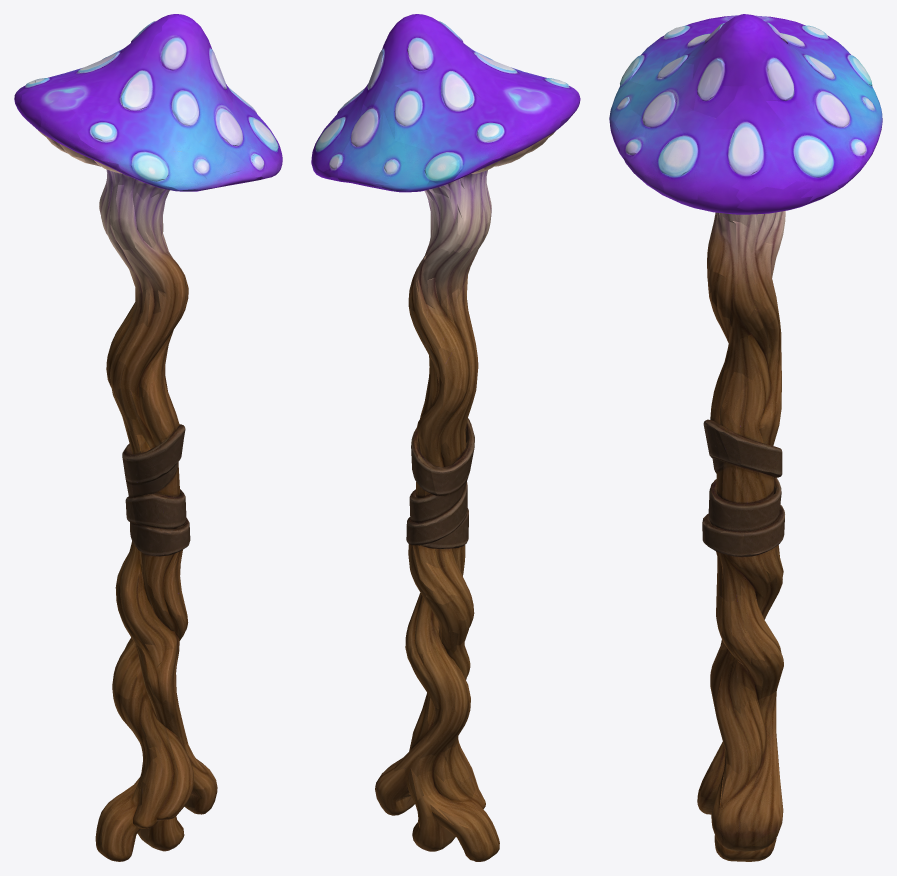
Rendered from staff-original.glb.
The picture shows the model from 3 angles, left to right: view 1: azimuth 30°, elevation 25°; view 2: azimuth 150°, elevation 25°; view 3: azimuth 270°, elevation 25°; orthographic projection. The views are drawn at different scales.
Parts seen in each view (by area): view 1: output_unwrapped; view 2: output_unwrapped; view 3: output_unwrapped.
Part boxes in pixels (x1,y1,x2,y2): output_unwrapped: [14, 14, 282, 861]; output_unwrapped: [311, 14, 580, 861]; output_unwrapped: [609, 14, 882, 861].
Size of the model in its own units: 0.5442 by 1.9 by 0.5532.
1 material, 1 textured.
